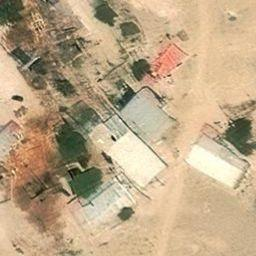manzanas: (67, 84, 178, 235), (183, 134, 247, 190)
